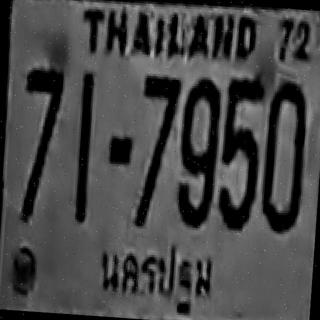N01: (74, 71, 95, 183)
N07: (136, 73, 181, 173), (20, 66, 65, 159)
N09: (173, 78, 220, 226), (173, 95, 218, 227), (173, 108, 218, 227)
P28: (87, 229, 228, 318)
